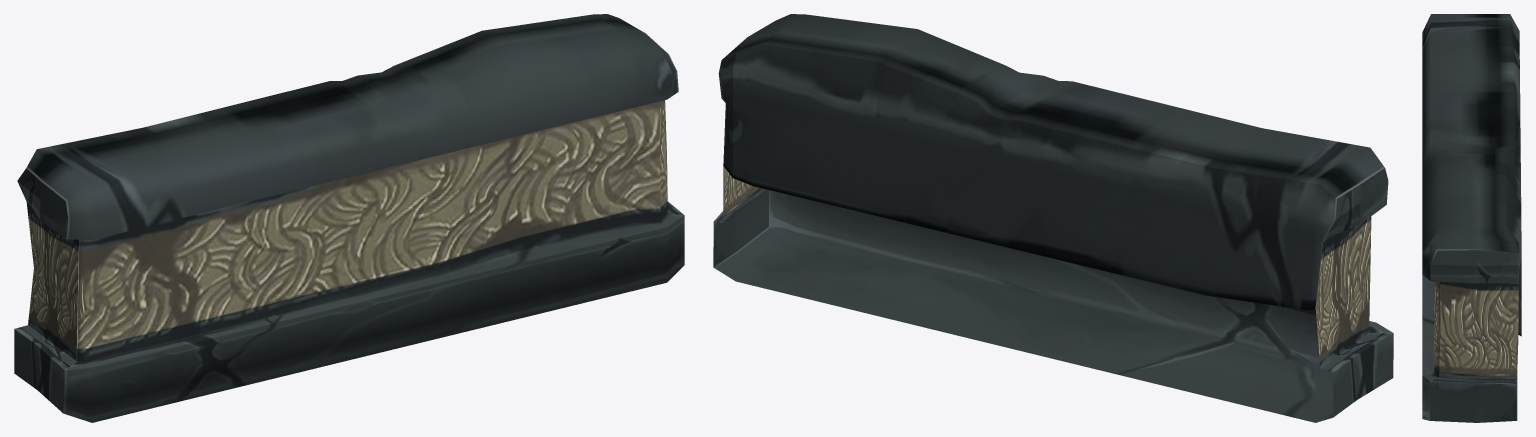
File: wall_topper_capped.fbx
3 views of the same model, side by side, from view 1: azimuth 30°, elevation 25°; view 2: azimuth 150°, elevation 25°; view 3: azimuth 270°, elevation 25° (orthographic). The views are drawn at different scales.
Parts seen in each view (by area): view 1: modset_v0010:wall_topper_capped; view 2: modset_v0010:wall_topper_capped; view 3: modset_v0010:wall_topper_capped.
Part boxes in pixels (x1,y1,x2,y2): modset_v0010:wall_topper_capped: (14,14,684,422); modset_v0010:wall_topper_capped: (713,14,1393,422); modset_v0010:wall_topper_capped: (1422,14,1521,422).
Size of the model in its own units: 2.07 by 0.7834 by 0.3622.
